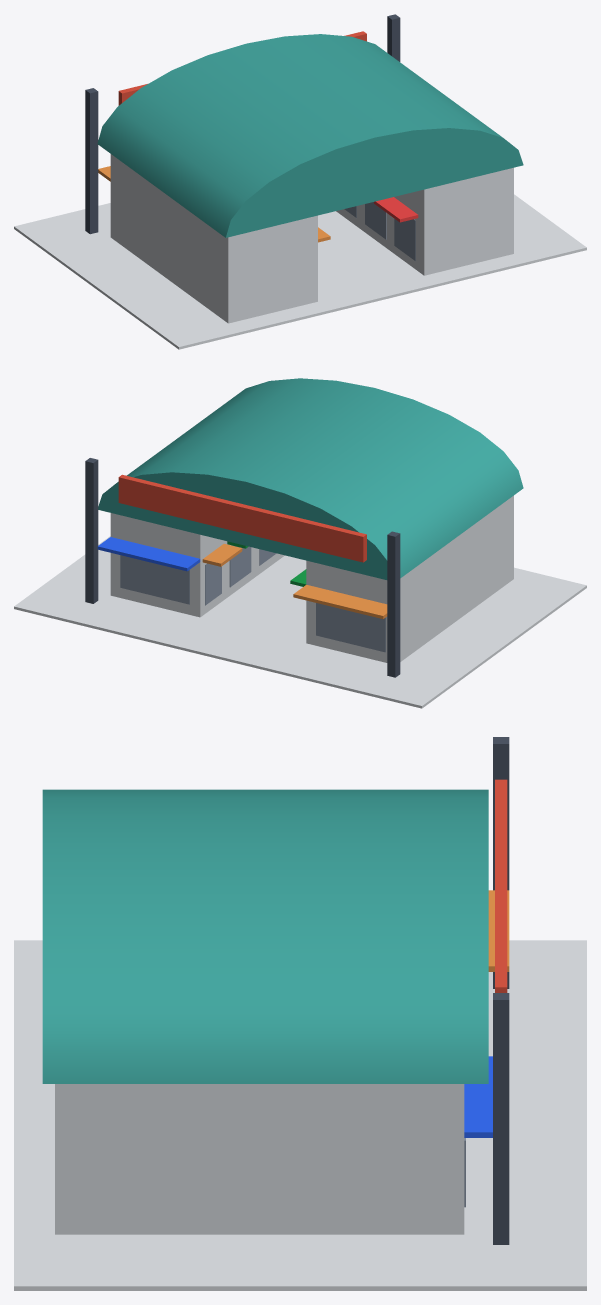
The model's file is market.glb.
The picture shows the model from 3 angles, top to bottom: view 1: azimuth 30°, elevation 25°; view 2: azimuth 150°, elevation 25°; view 3: azimuth 270°, elevation 25°; orthographic projection. The views are drawn at different scales.
Visible parts, largest first — view 1: Body; view 2: Body; view 3: Body.
Boxes of the visible parts, box(x1,y1,x2,y2) form: Body: box(14, 14, 586, 349); Body: box(14, 378, 586, 708); Body: box(14, 737, 586, 1290).
Bounding box in the file's own units: 20 × 7.32 × 14.
